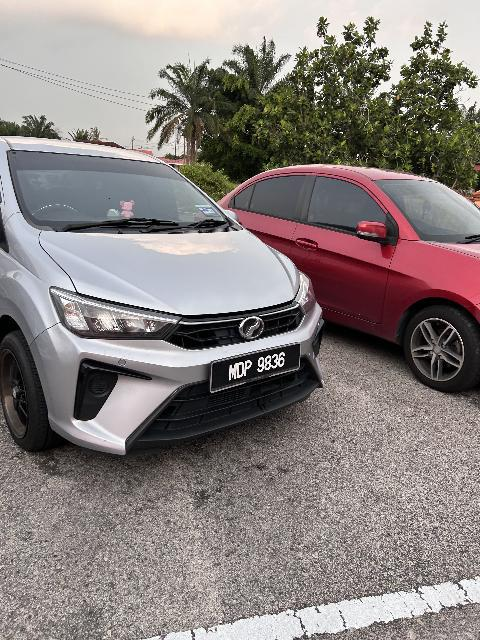License_Plate: (210, 342, 302, 398)
MDP9836: (210, 342, 302, 398)
car: (1, 120, 329, 464), (209, 151, 480, 398)
